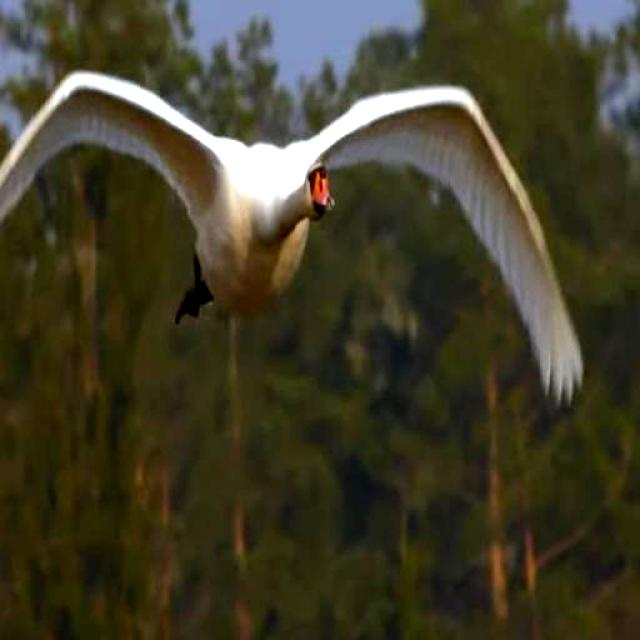airplane: (0, 54, 590, 418)
